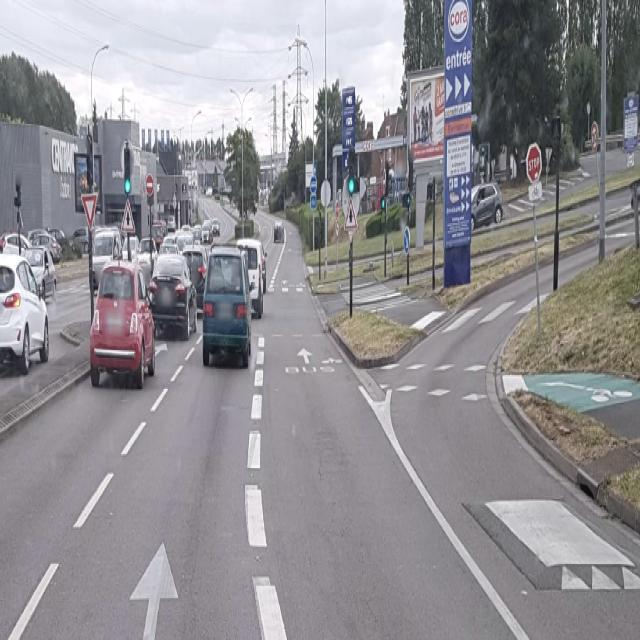speed_30: (590, 122, 599, 151)
